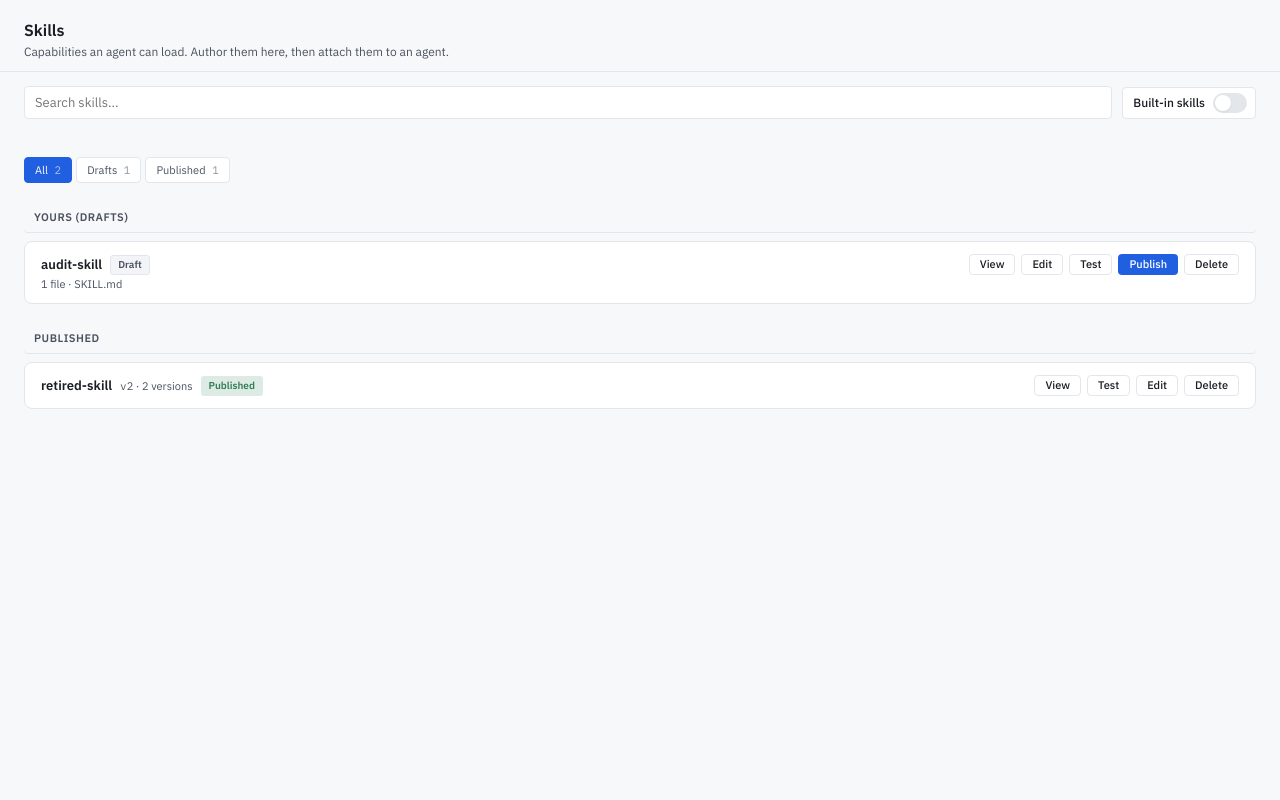
it: deleting a published skill › keeps the confirm disabled until the exact name is typed
Step 1. Click the button "Delete" in the row of "versions" → (1212, 386), box x1=1184 y1=375 x2=1239 y2=396
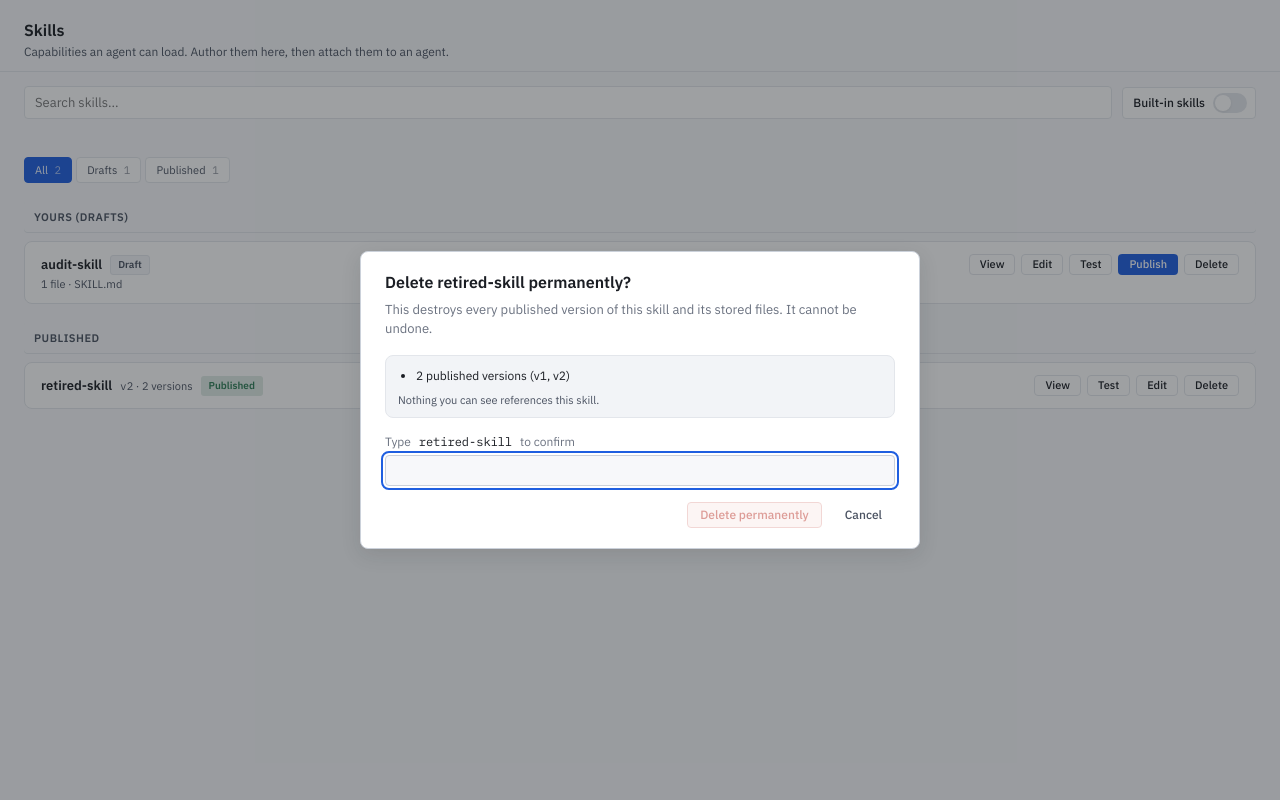
expect the list item "2 published versions (v1, v2)" is shown: met, box x1=416 y1=368 x2=570 y2=383
expect the button "Delete permanently" is disabled: met, box x1=687 y1=502 x2=822 y2=528
Step 2. Type "retired" into the field labelled "Type retired-skill to confirm" → (640, 471), box x1=385 y1=455 x2=895 y2=486
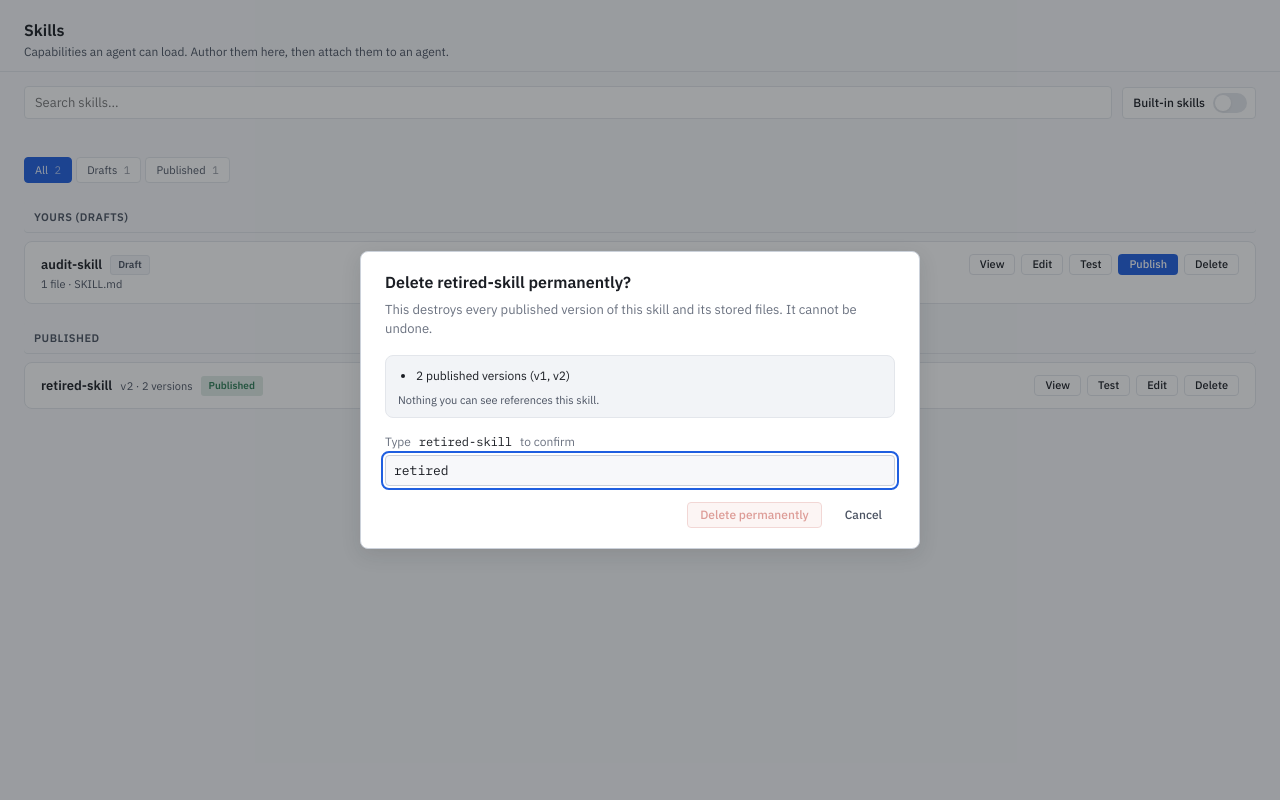
expect the button "Delete permanently" is disabled: met, box x1=687 y1=502 x2=822 y2=528
Step 3. Replace the text in the field labelled "Type retired-skill to confirm" with "retired-skill" → (640, 471), box x1=385 y1=455 x2=895 y2=486
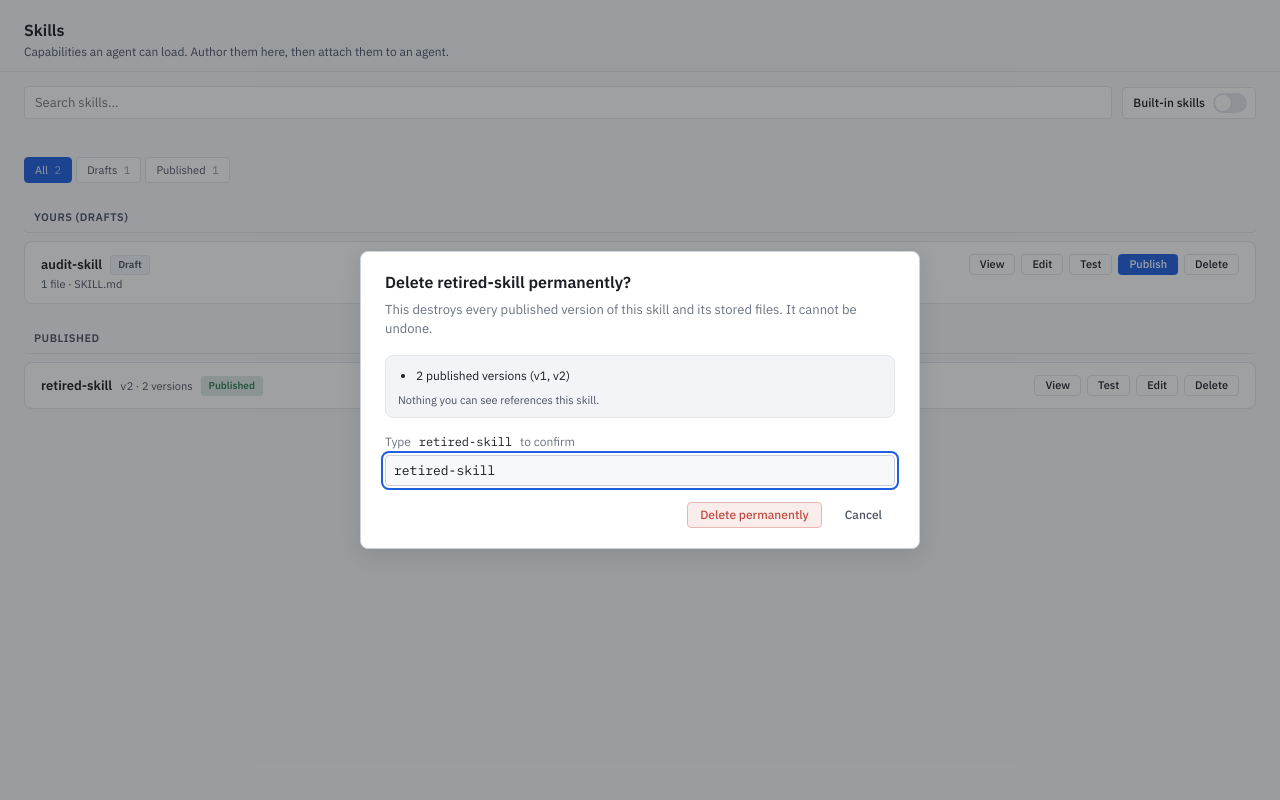
expect the button "Delete permanently" is enabled: met, box x1=687 y1=502 x2=822 y2=528
